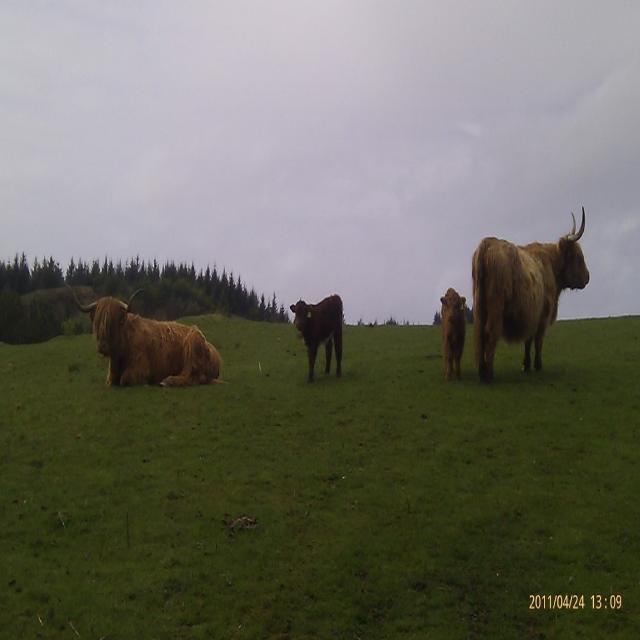Cattle: (470, 203, 589, 381), (68, 284, 224, 389), (287, 290, 349, 391), (439, 287, 466, 382)
